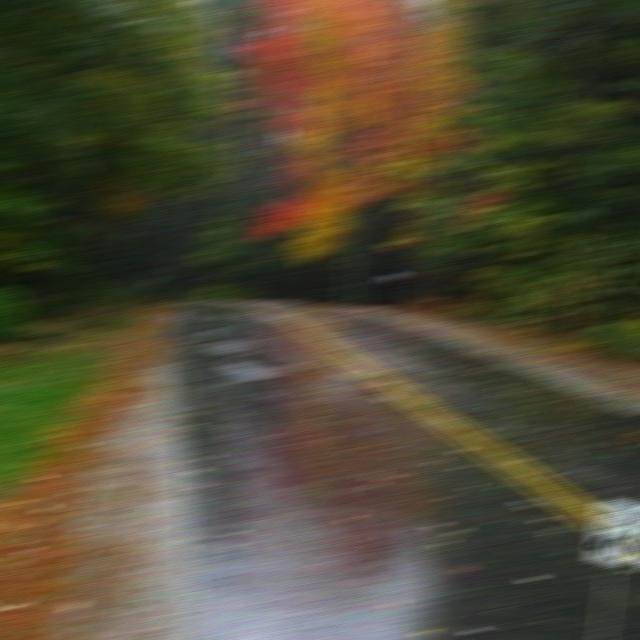speedLimit40: (589, 496, 640, 639)
